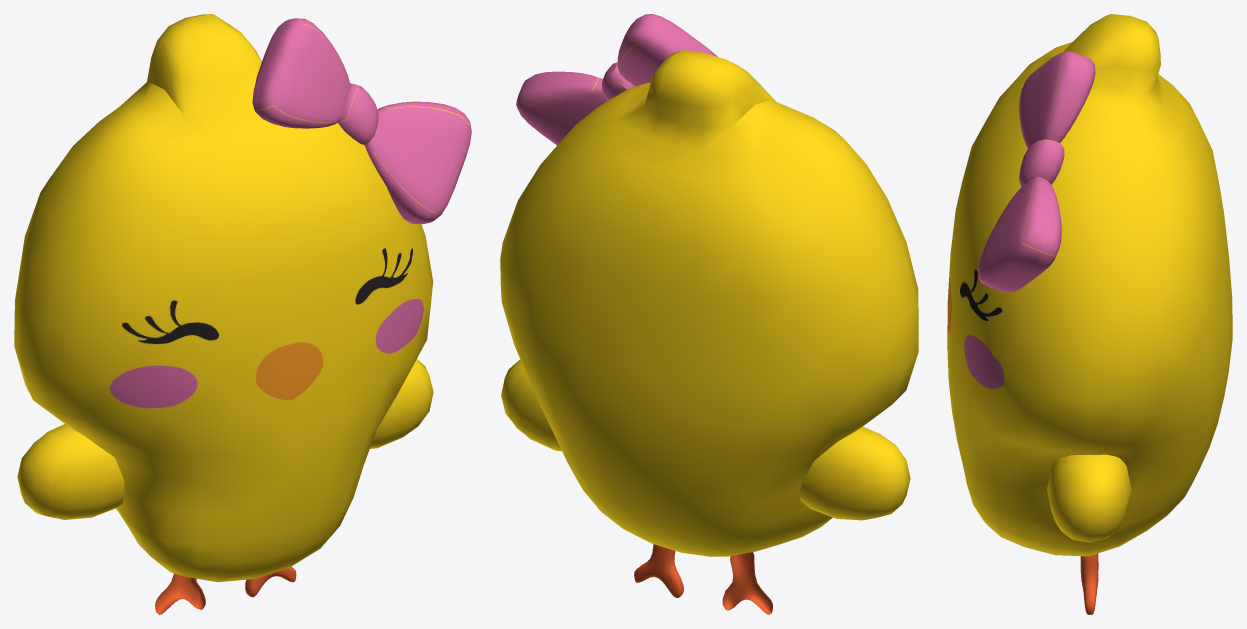
Rendered from kuke.glb.
The picture shows the model from 3 angles, left to right: view 1: azimuth 30°, elevation 25°; view 2: azimuth 150°, elevation 25°; view 3: azimuth 270°, elevation 25°; orthographic projection.
Parts seen in each view (by area): view 1: body, bowtieHead, armL, armR, beinL; view 2: body, bowtieHead, armL, armR, beinL, beinR; view 3: body, bowtieHead, armR, beinR.
Part boxes in pixels (x1=…): body: x1=14, y1=14, x2=433, y2=582; bowtieHead: x1=252, y1=18, x2=471, y2=224; armL: x1=17, y1=424, x2=124, y2=519; armR: x1=370, y1=359, x2=433, y2=448; beinL: x1=155, y1=573, x2=205, y2=614; body: x1=500, y1=50, x2=918, y2=556; bowtieHead: x1=516, y1=14, x2=717, y2=145; armL: x1=799, y1=427, x2=910, y2=520; armR: x1=501, y1=359, x2=561, y2=451; beinL: x1=722, y1=552, x2=772, y2=614; beinR: x1=634, y1=544, x2=683, y2=597; body: x1=947, y1=14, x2=1232, y2=556; bowtieHead: x1=978, y1=51, x2=1095, y2=292; armR: x1=1047, y1=454, x2=1131, y2=542; beinR: x1=1080, y1=553, x2=1098, y2=614.
Size of the model in its own units: 7.86 by 10.33 by 4.73.
Materials: 1 (1 with a texture image).
